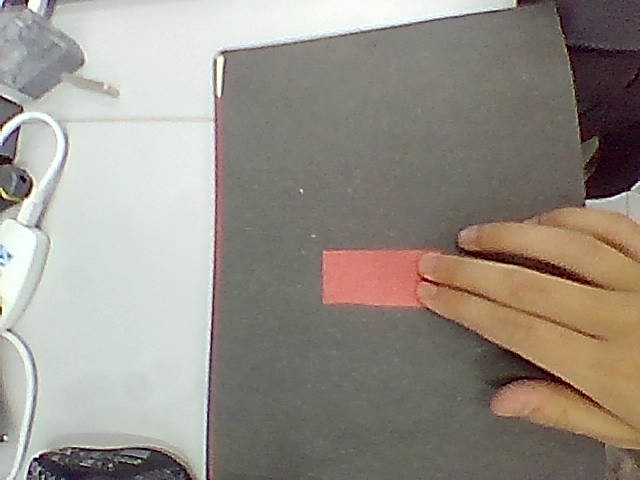card: (323, 251, 424, 307)
